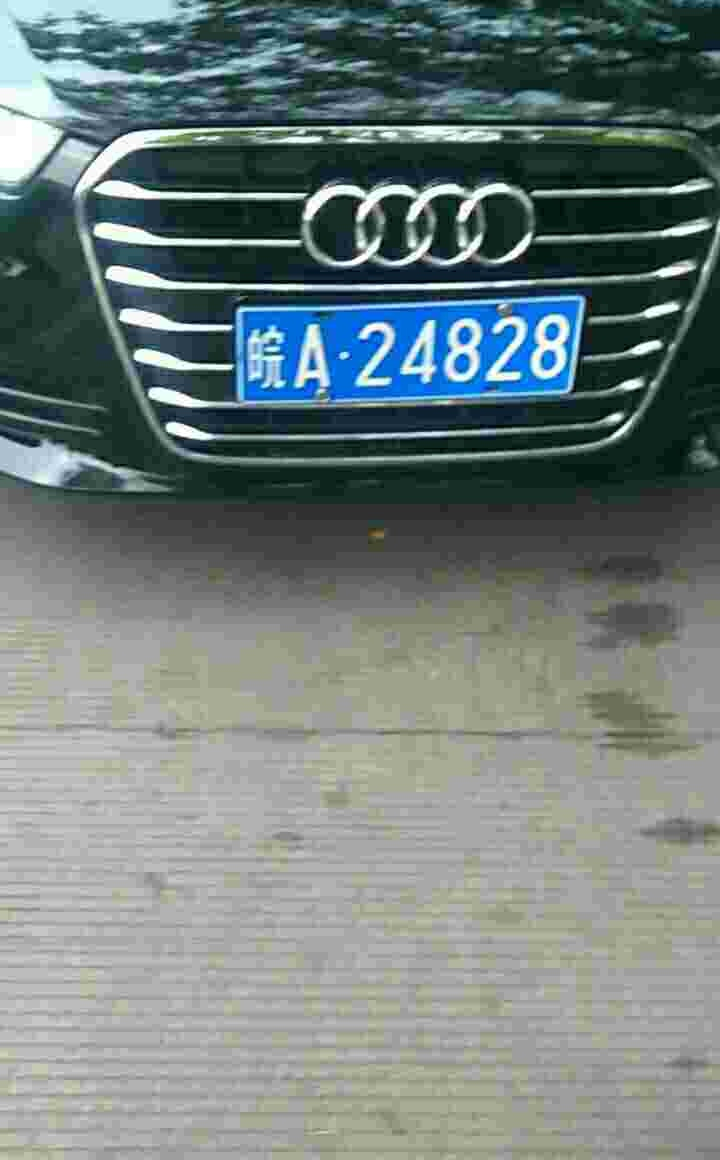license_plate: (235, 295, 582, 406)
